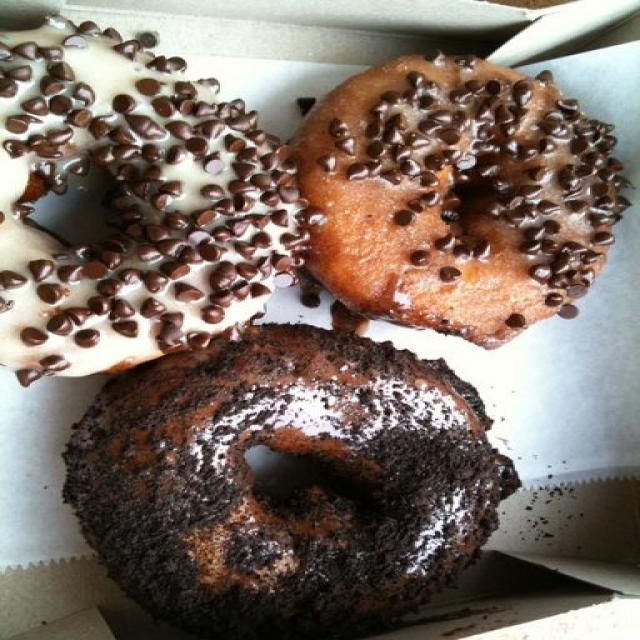Donuts: (1, 17, 625, 640)
